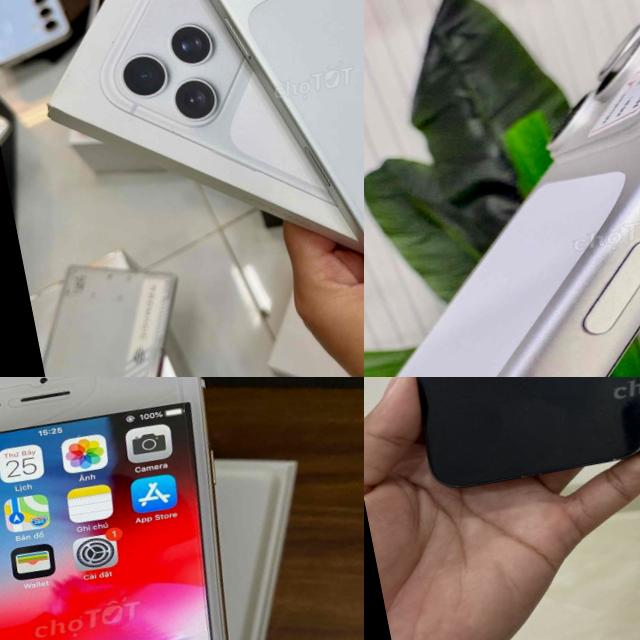scratch: (166, 0, 364, 311)
screen_defect: (21, 377, 152, 437)
